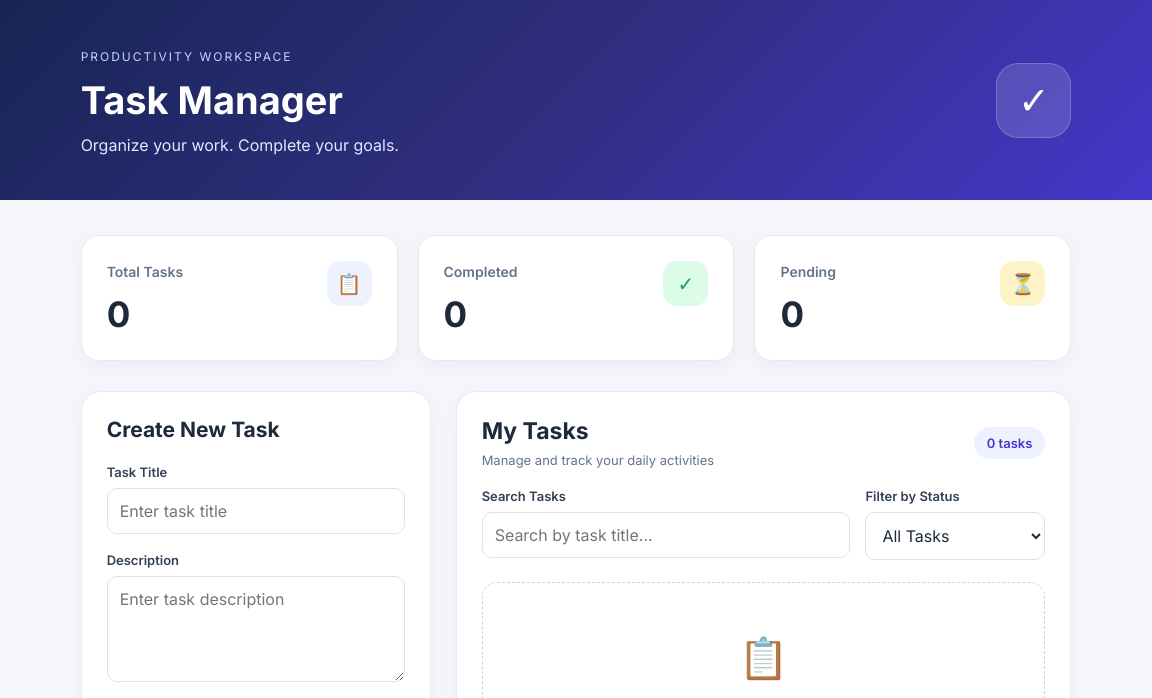
Test case: Task Manager Integration Tests › filters completed tasks
This screenshot has width=1152, height=698.
Type "Task One" into the field labelled "Task Title" at (256, 511), box 107,488 -> 405,534
(page scrolled)
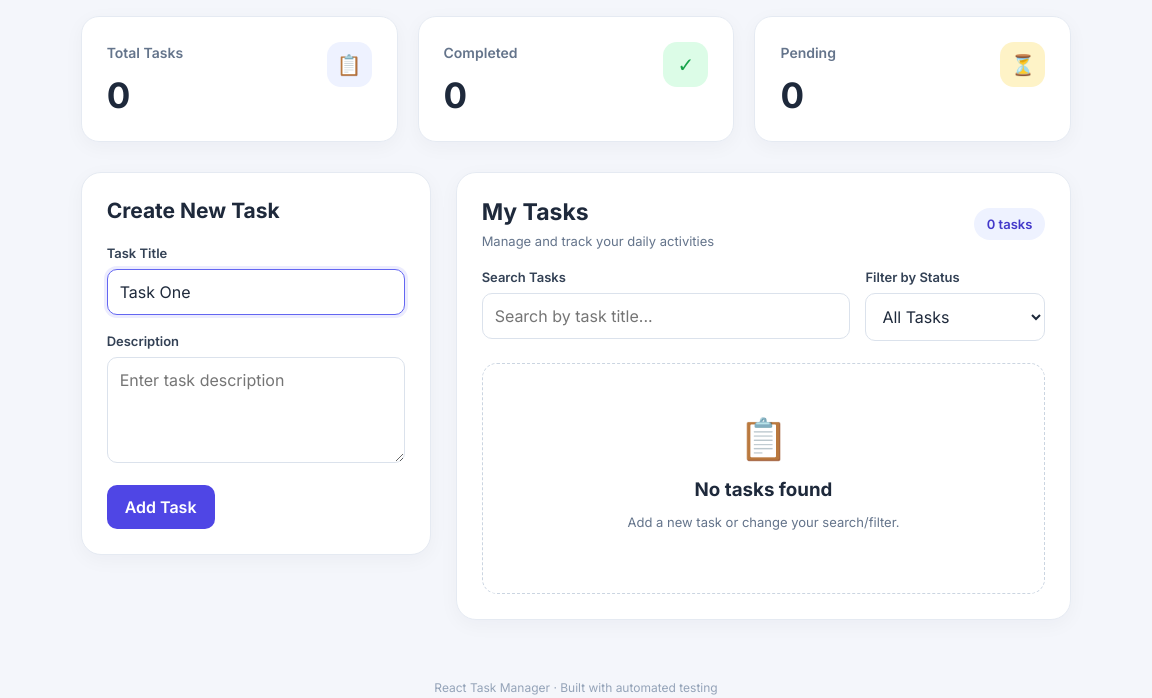
Click the button "Add Task" at (161, 507), box 107,485 -> 214,529
(page scrolled)
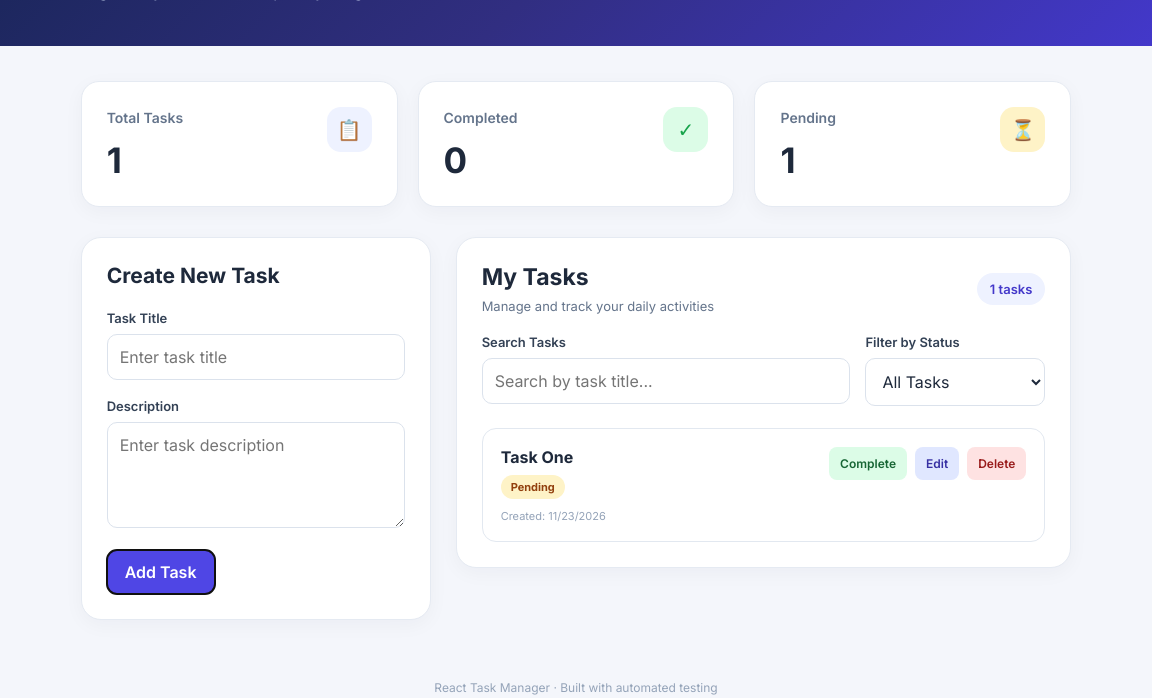
Type "Task Two" into the field labelled "Task Title" at (256, 357), box 107,334 -> 405,380
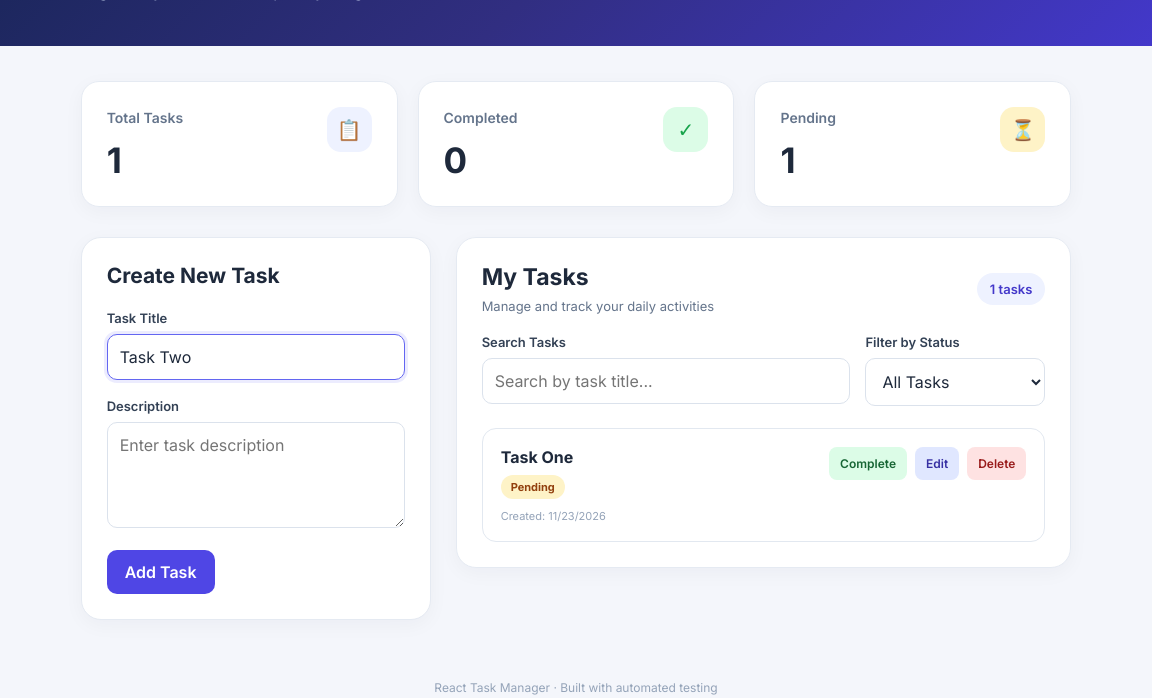
Click the button "Add Task" at (161, 572), box 107,550 -> 214,594
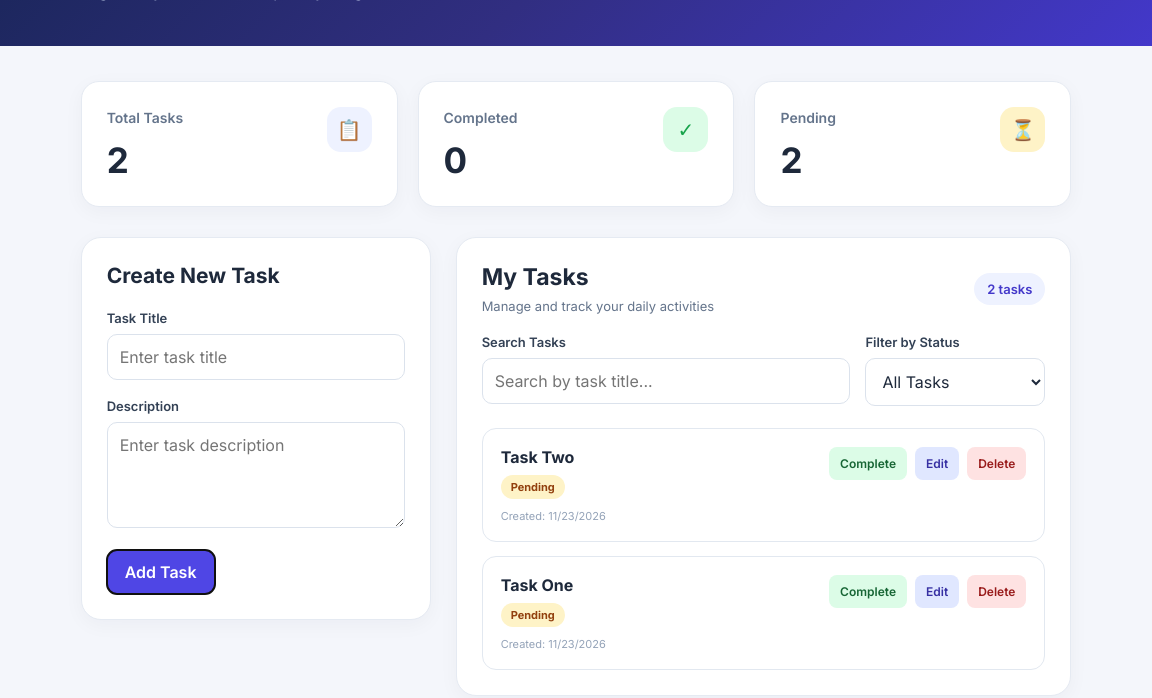
Click the button with aria-label "complete task one" at (868, 592), box 829,575 -> 907,608
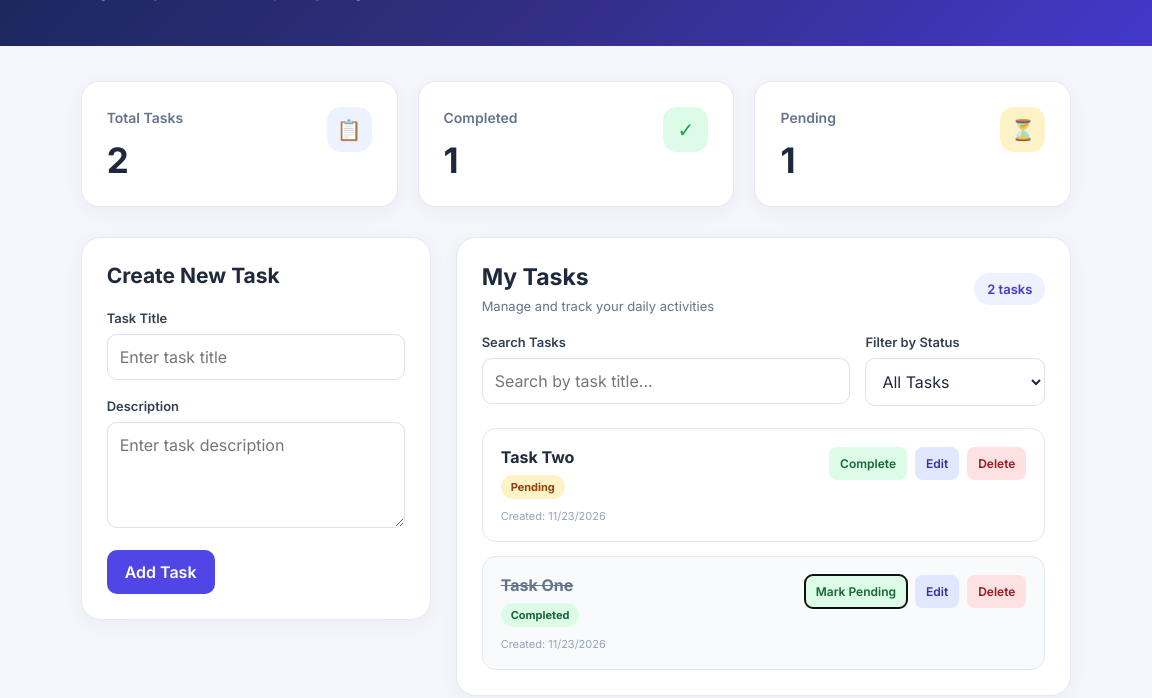
Select "Completed" in the dropdown labelled "Filter by Status" at (955, 382), box 865,358 -> 1045,406
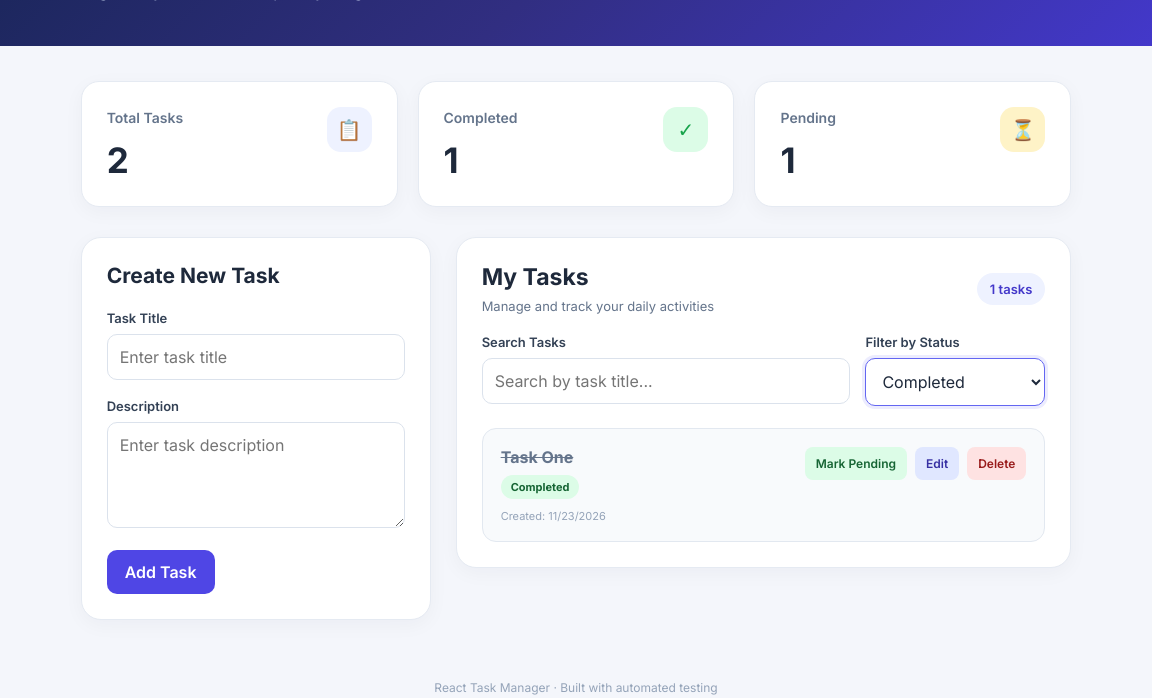
expect the heading "Task One" is shown: met, box 501,447 -> 573,467
expect the heading "Task Two" is gone: met
